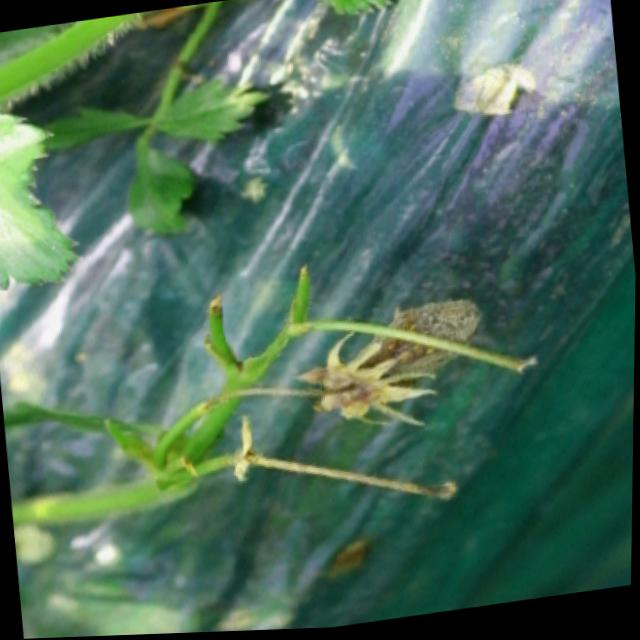Gray Mold: (290, 299, 483, 430)
